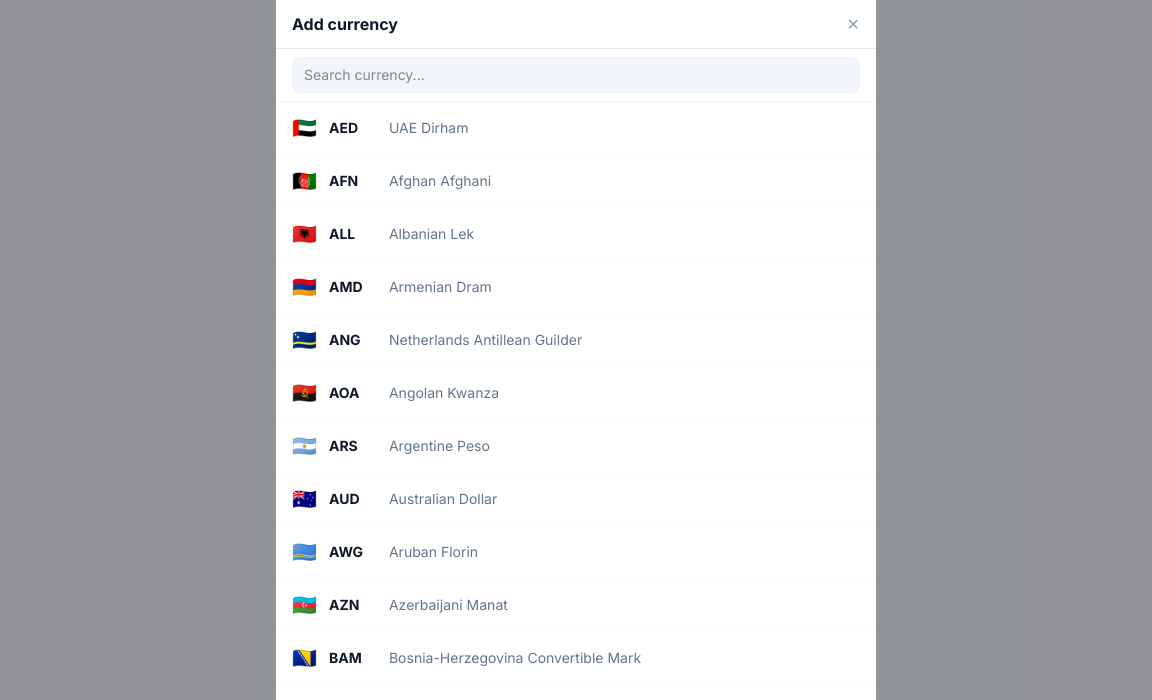
CurrencyPicker › shows no options when search matches nothing
Type "zzzznotacurrency" into the field with placeholder "Search currency..." at (576, 75), box [292,57,860,93]
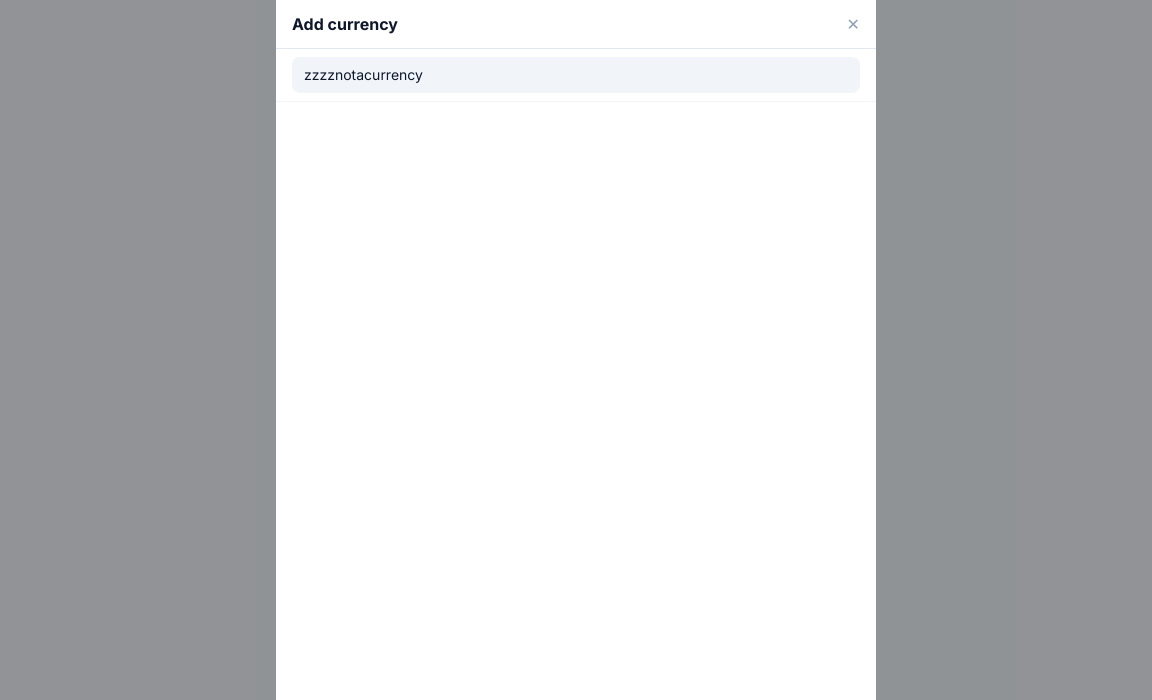
Result: no options are shown
